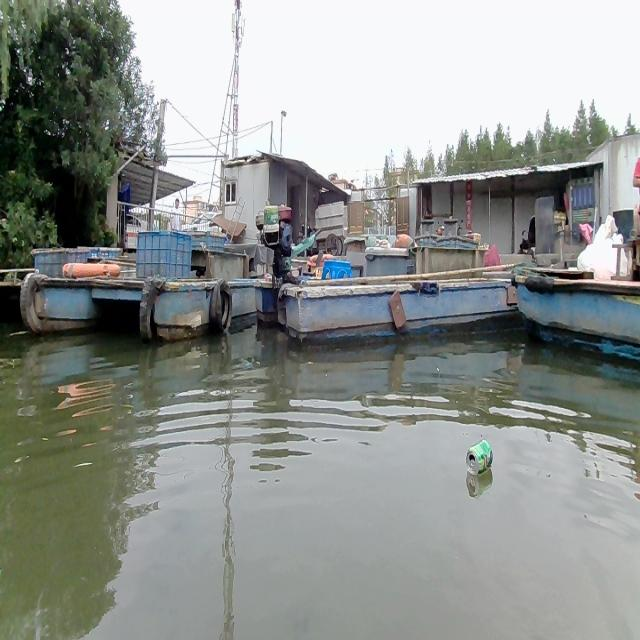bottle: (463, 438, 493, 476)
